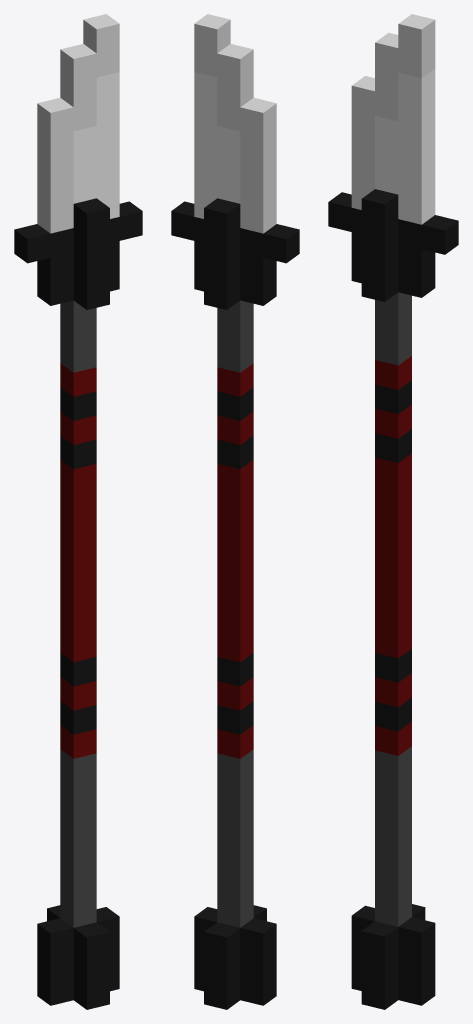
File: Glaive.obj
3 views of the same model, side by side, from view 1: azimuth 30°, elevation 25°; view 2: azimuth 150°, elevation 25°; view 3: azimuth 330°, elevation 25° (orthographic).
Bounding box in the file's own units: 0.5 × 4 × 0.3.
Materials: 1 (1 with a texture image).
